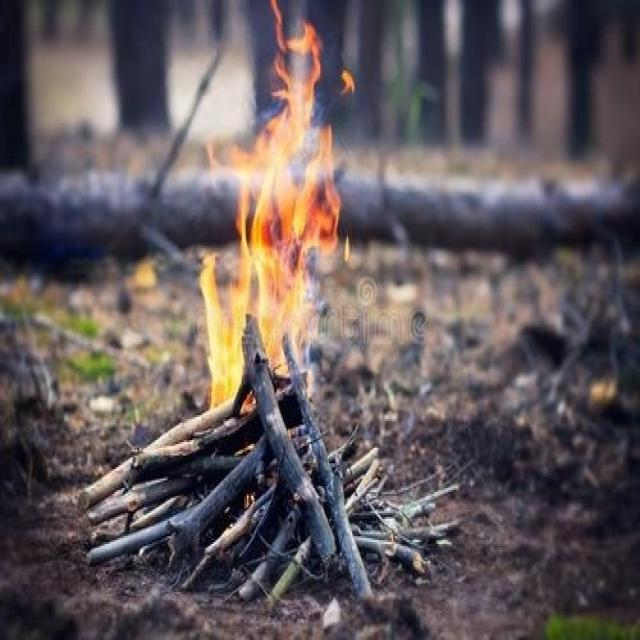Fire: (197, 2, 357, 406)
